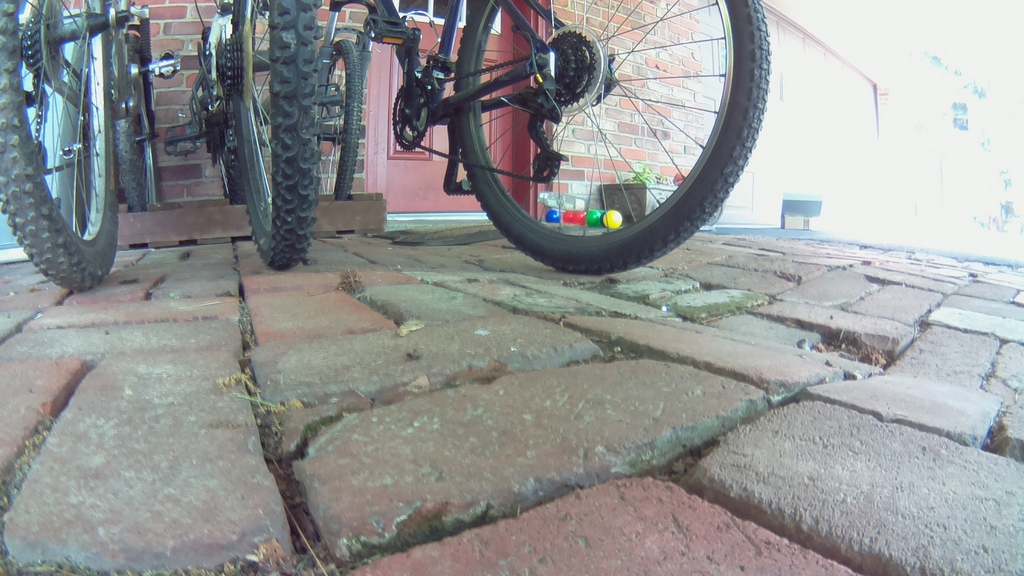ball: (587, 210, 604, 229)
